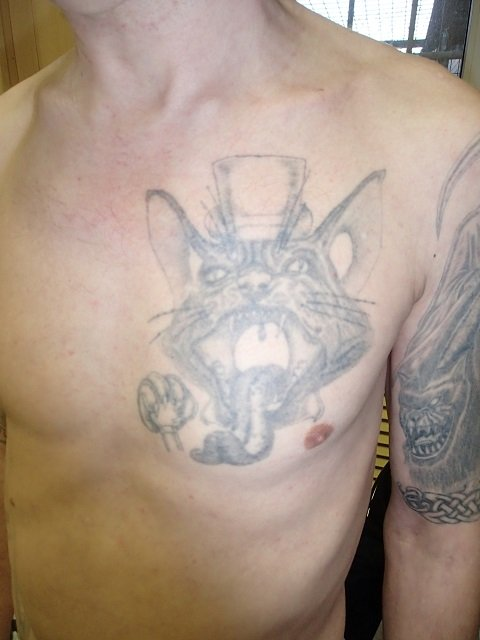tatu8_kot: (139, 144, 383, 469)
